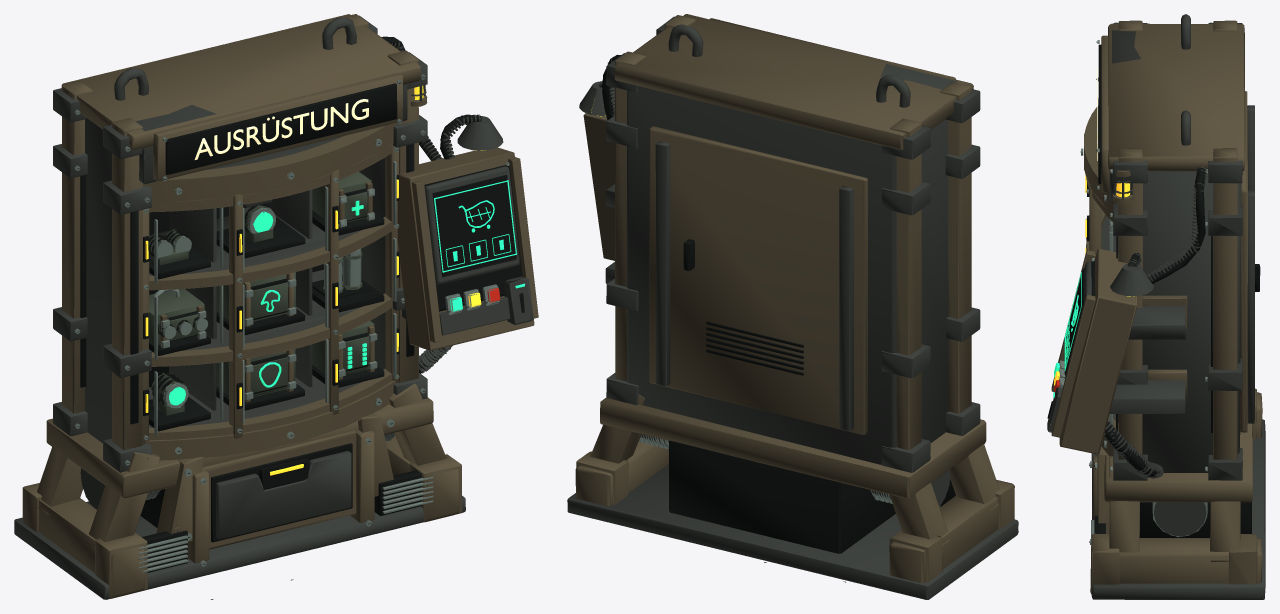
The model's file is gear_cabinet.glb.
3 views of the same model, side by side, from view 1: azimuth 30°, elevation 25°; view 2: azimuth 150°, elevation 25°; view 3: azimuth 270°, elevation 25° (orthographic). The views are drawn at different scales.
Visible parts, largest first — view 1: gear_cabinet; view 2: gear_cabinet; view 3: gear_cabinet.
Boxes of the visible parts, <box> form: gear_cabinet: <box>14,14,538,599</box>; gear_cabinet: <box>567,14,1018,599</box>; gear_cabinet: <box>1047,14,1265,599</box>.
Bounding box in the file's own units: 1.94 × 2.38 × 0.9274.
1 material, 1 textured.
